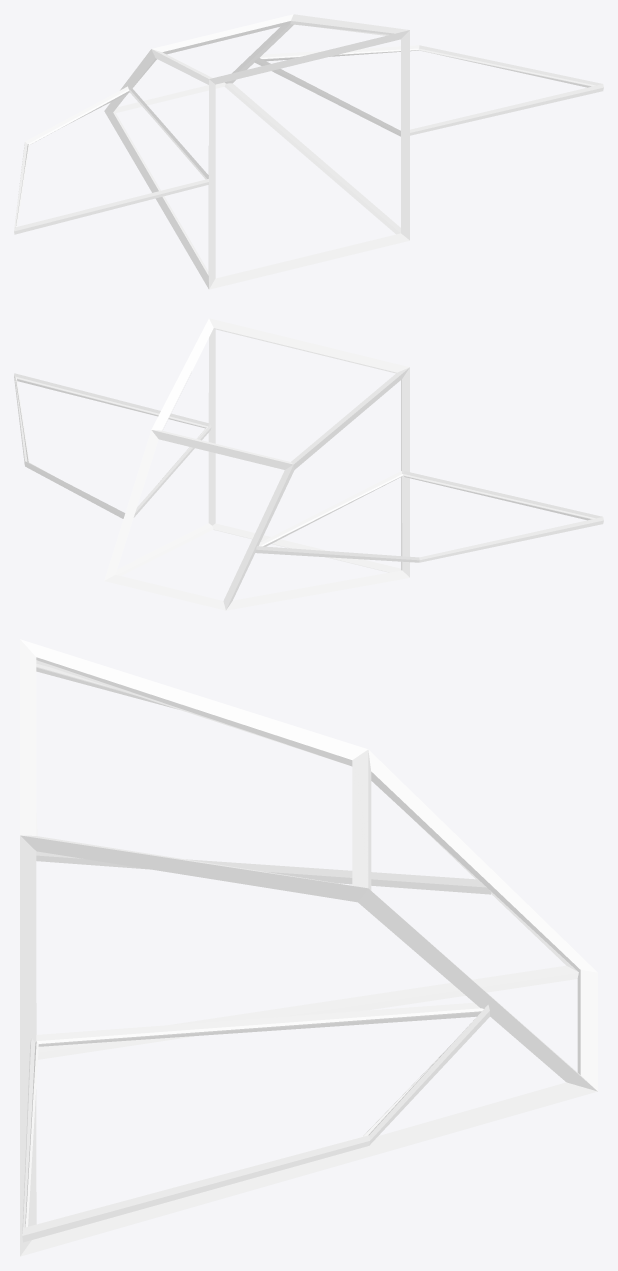
The model's file is cockpit.glb.
The picture shows the model from 3 angles, top to bottom: view 1: azimuth 30°, elevation 25°; view 2: azimuth 150°, elevation 25°; view 3: azimuth 270°, elevation 25°; orthographic projection. The views are drawn at different scales.
Parts seen in each view (by area): view 1: Cockpit, Wings; view 2: Cockpit, Wings; view 3: Cockpit, Wings.
Part boxes in pixels (<box>): Cockpit: <box>104,14,409,289</box>; Wings: <box>14,45,603,234</box>; Cockpit: <box>104,318,409,610</box>; Wings: <box>14,373,603,562</box>; Cockpit: <box>20,639,597,1256</box>; Wings: <box>22,663,491,1242</box>.
Bounding box in the file's own units: 6.05 × 2.06 × 2.57.
Materials: 2 (2 with a texture image).
